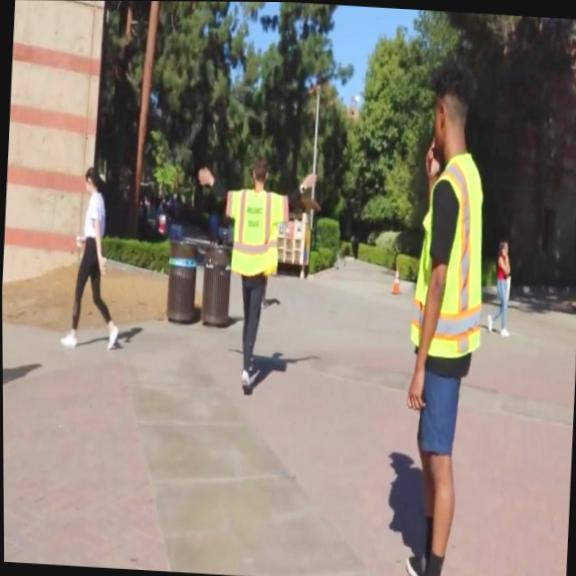safety_vest: (407, 150, 489, 361), (222, 186, 291, 278)
